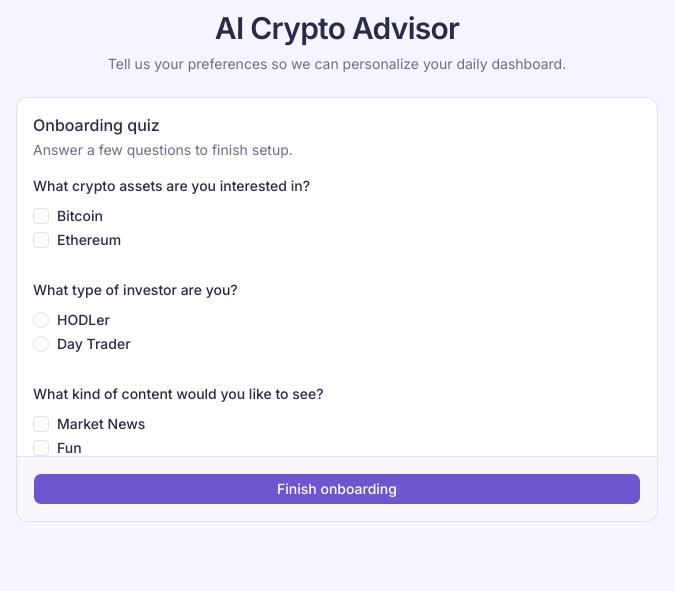
Test: OnboardingPage › shows server error when save fails
Expected: the text "What type of investor are you?" is shown, [33, 280, 238, 300]
Click the checkbox named "Bitcoin" next to "Bitcoin" at (41, 216), box [33, 208, 49, 224]
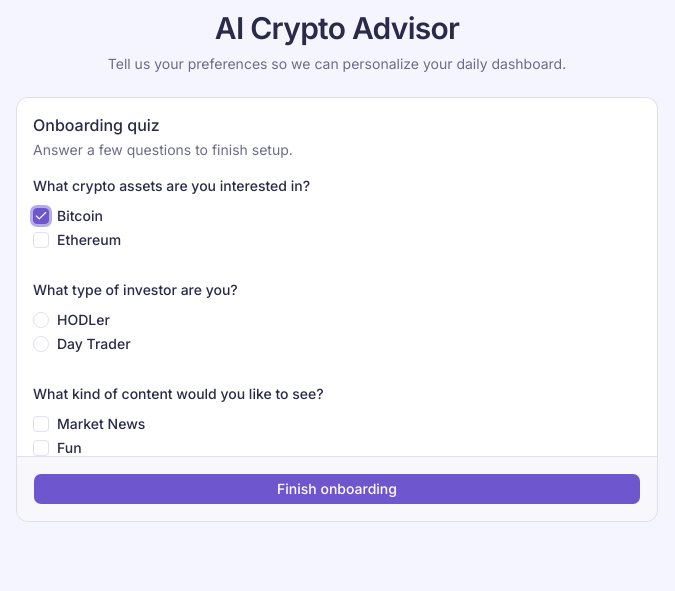
Click the radio button named "HODLer" next to "HODLer" at (41, 320), box [33, 312, 49, 328]
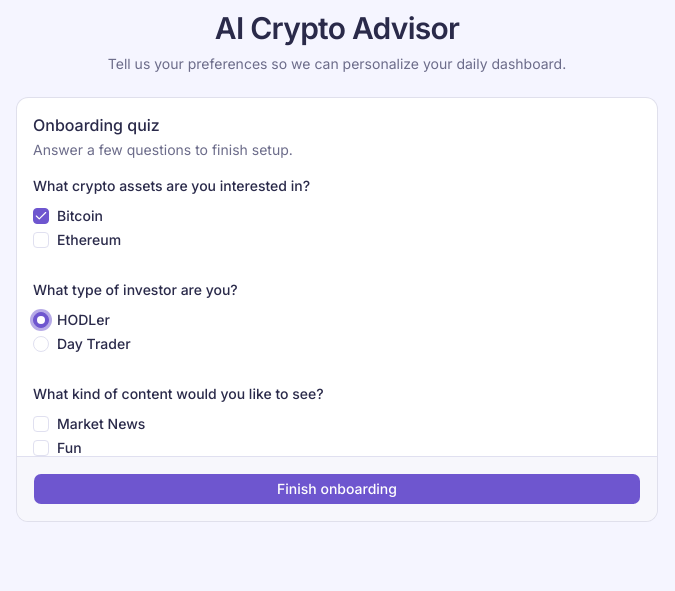
Click the checkbox named "Fun" next to "Fun" at (41, 448), box [33, 440, 49, 456]
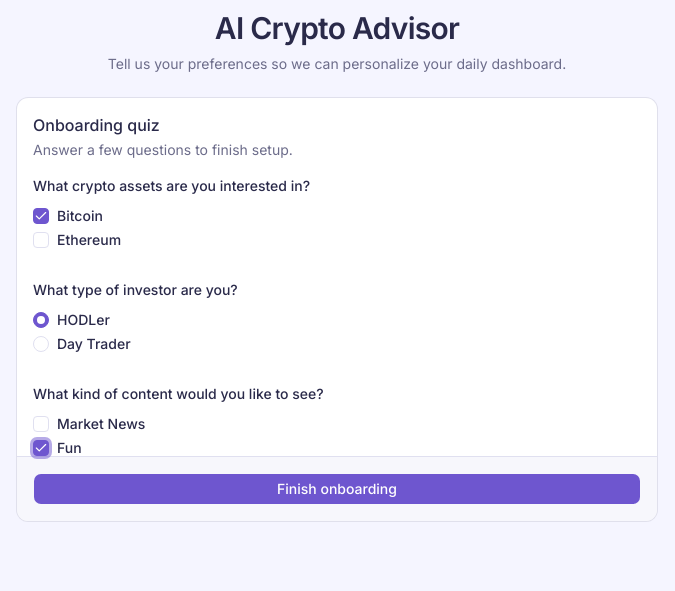
Click the button "Finish onboarding" at (337, 489), box [33, 473, 641, 505]
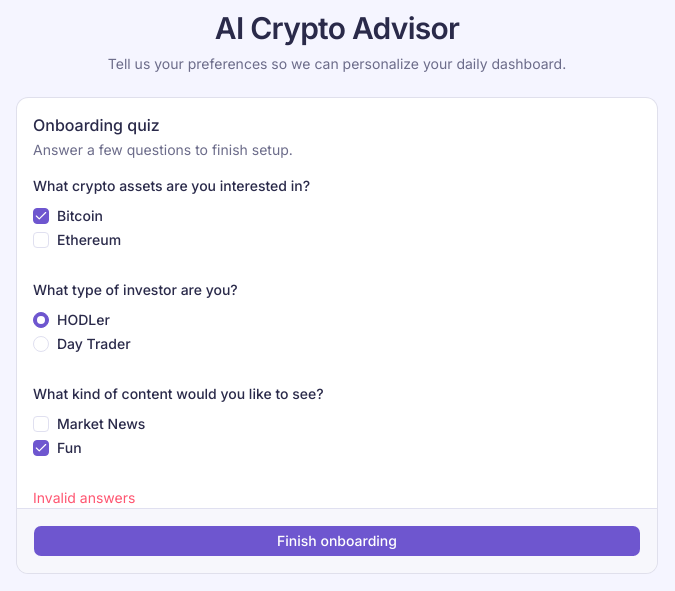
Expected: the message reads "Invalid answers", [33, 489, 135, 506]
